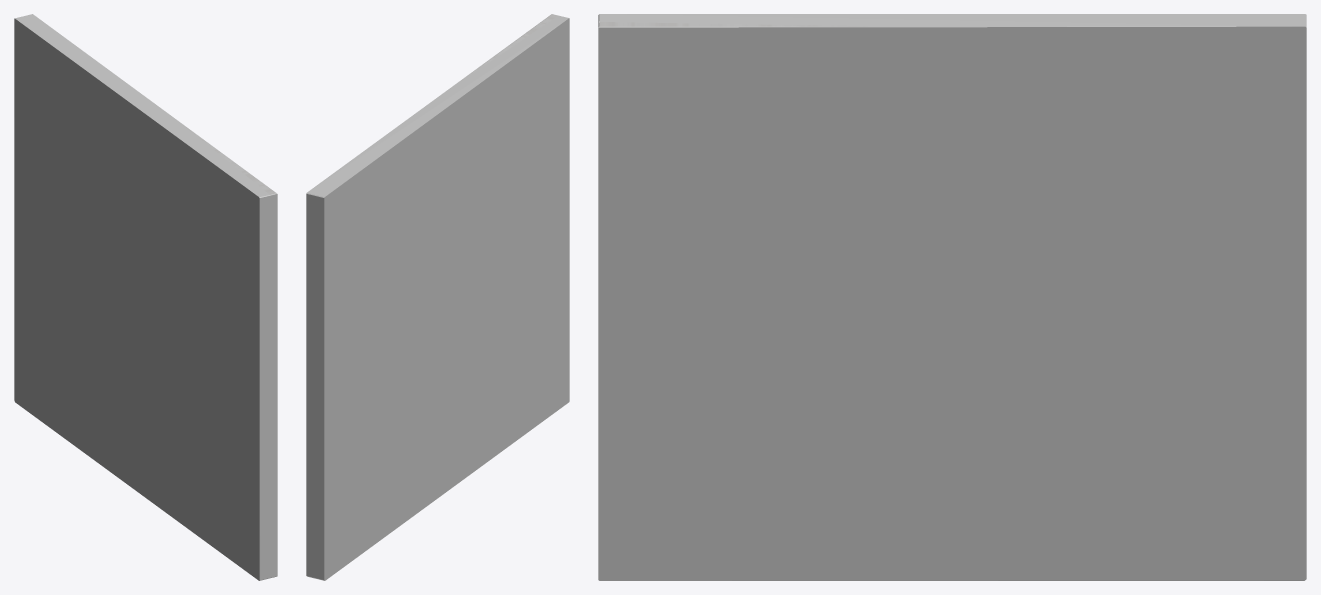
File: SM_GCG_Wallframe_A.fbx
3 views of the same model, side by side, from view 1: azimuth 30°, elevation 25°; view 2: azimuth 150°, elevation 25°; view 3: azimuth 270°, elevation 25° (orthographic). The views are drawn at different scales.
Visible parts, largest first — view 1: SM_GCG_Wallframe_A_ConvexHulls, SM_GCG_Wallframe_A; view 2: SM_GCG_Wallframe_A_ConvexHulls, SM_GCG_Wallframe_A; view 3: SM_GCG_Wallframe_A_ConvexHulls, SM_GCG_Wallframe_A.
Part boxes in pixels (bbox=[...]): SM_GCG_Wallframe_A_ConvexHulls: bbox=[14, 14, 277, 580]; SM_GCG_Wallframe_A: bbox=[183, 125, 276, 194]; SM_GCG_Wallframe_A_ConvexHulls: bbox=[306, 14, 569, 580]; SM_GCG_Wallframe_A: bbox=[459, 14, 557, 82]; SM_GCG_Wallframe_A_ConvexHulls: bbox=[598, 14, 1306, 580]; SM_GCG_Wallframe_A: bbox=[599, 22, 867, 26].
Size of the model in its own units: 10.25 by 241 by 208.
Materials: 3 (2 with a texture image).
